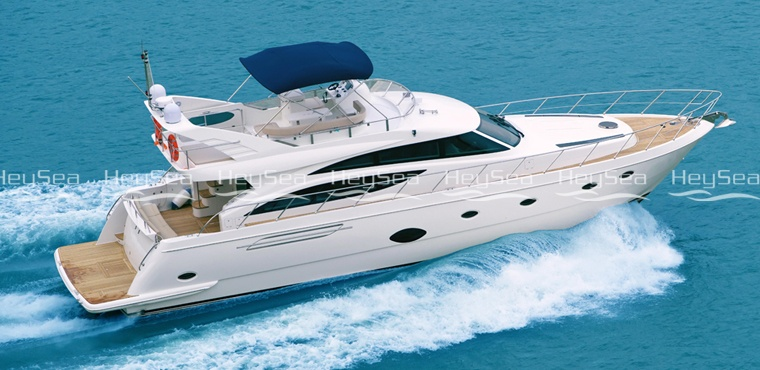yacht: (50, 35, 728, 317)
